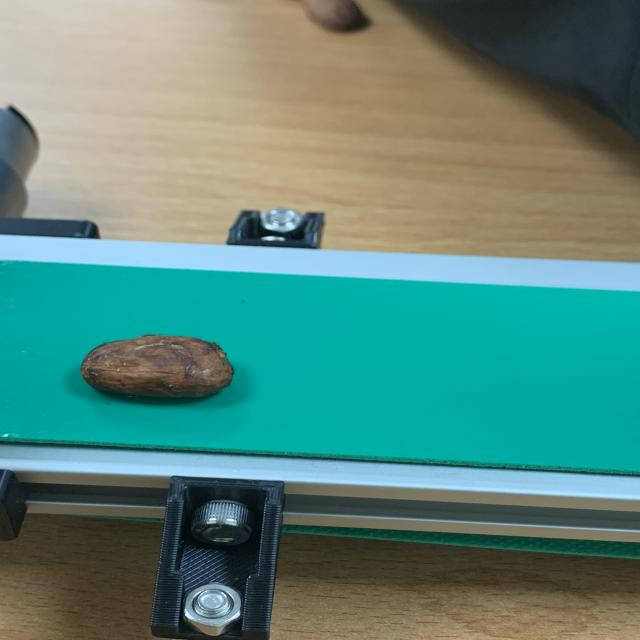Fine_cocoabeans: (8, 319, 315, 421)
